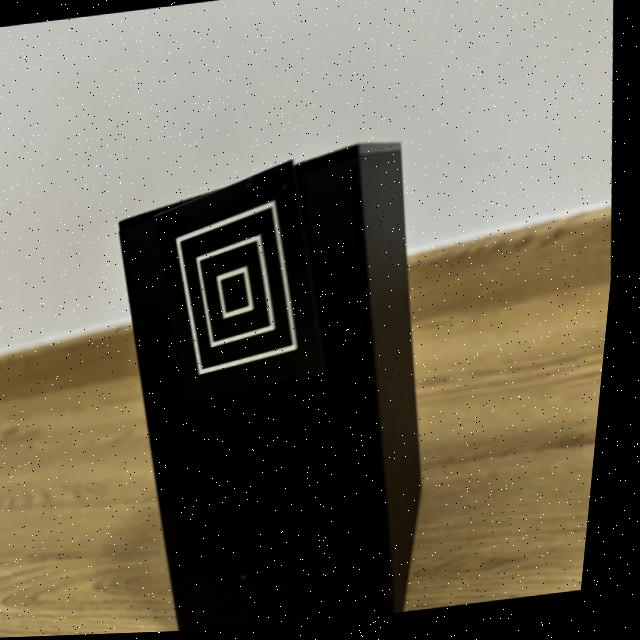BULLSEYE: (159, 160, 332, 410)
